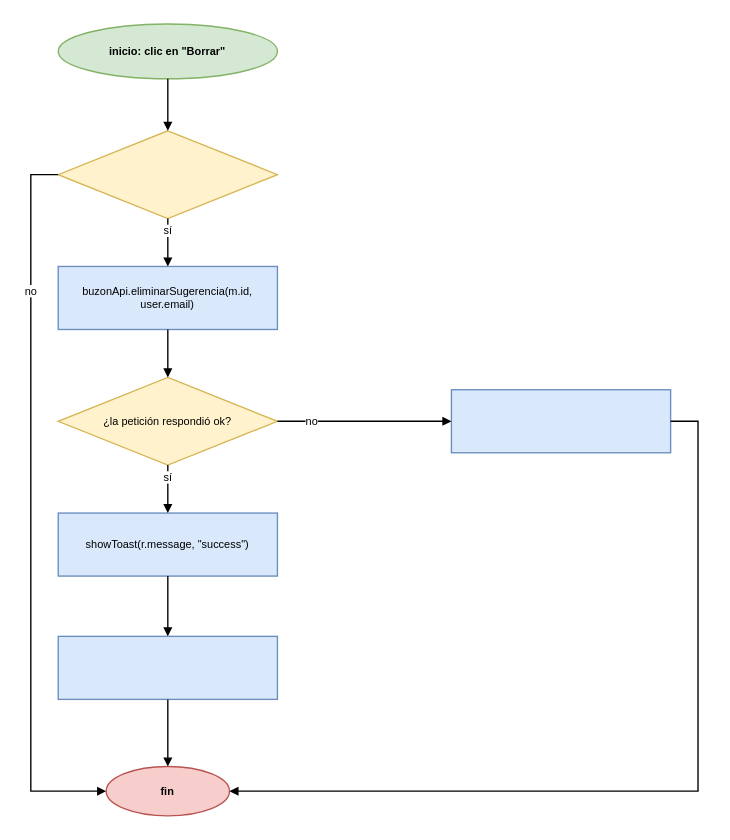
The diagram is 730 pixels wide and 840 high, and some of its shapes have lost their labels. The shapes that lost their labels are listed below. From the top down, each one's centre as x and y in pixels, then its label:
point (167, 174): ¿window.confirm(...) acepta?
point (560, 420): showToast(err.message, "error")
point (167, 667): cargar(): recarga usuarios y buzón
